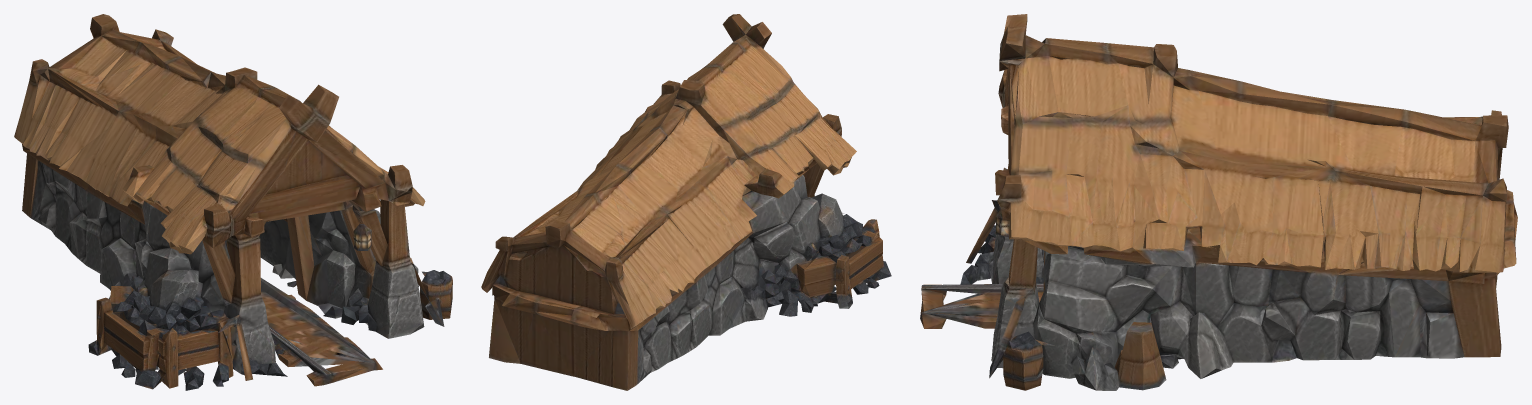
File: mine.glb
The picture shows the model from 3 angles, left to right: view 1: azimuth 30°, elevation 25°; view 2: azimuth 150°, elevation 25°; view 3: azimuth 270°, elevation 25°; orthographic projection. The views are drawn at different scales.
Visible parts, largest first — view 1: output_unwrapped; view 2: output_unwrapped; view 3: output_unwrapped.
Part boxes in pixels (x1=…): output_unwrapped: x1=14, y1=14, x2=452, y2=390; output_unwrapped: x1=481, y1=14, x2=891, y2=390; output_unwrapped: x1=920, y1=14, x2=1517, y2=390.
Size of the model in its own units: 3.87 by 3 by 5.57.
Materials: 1 (1 with a texture image).
